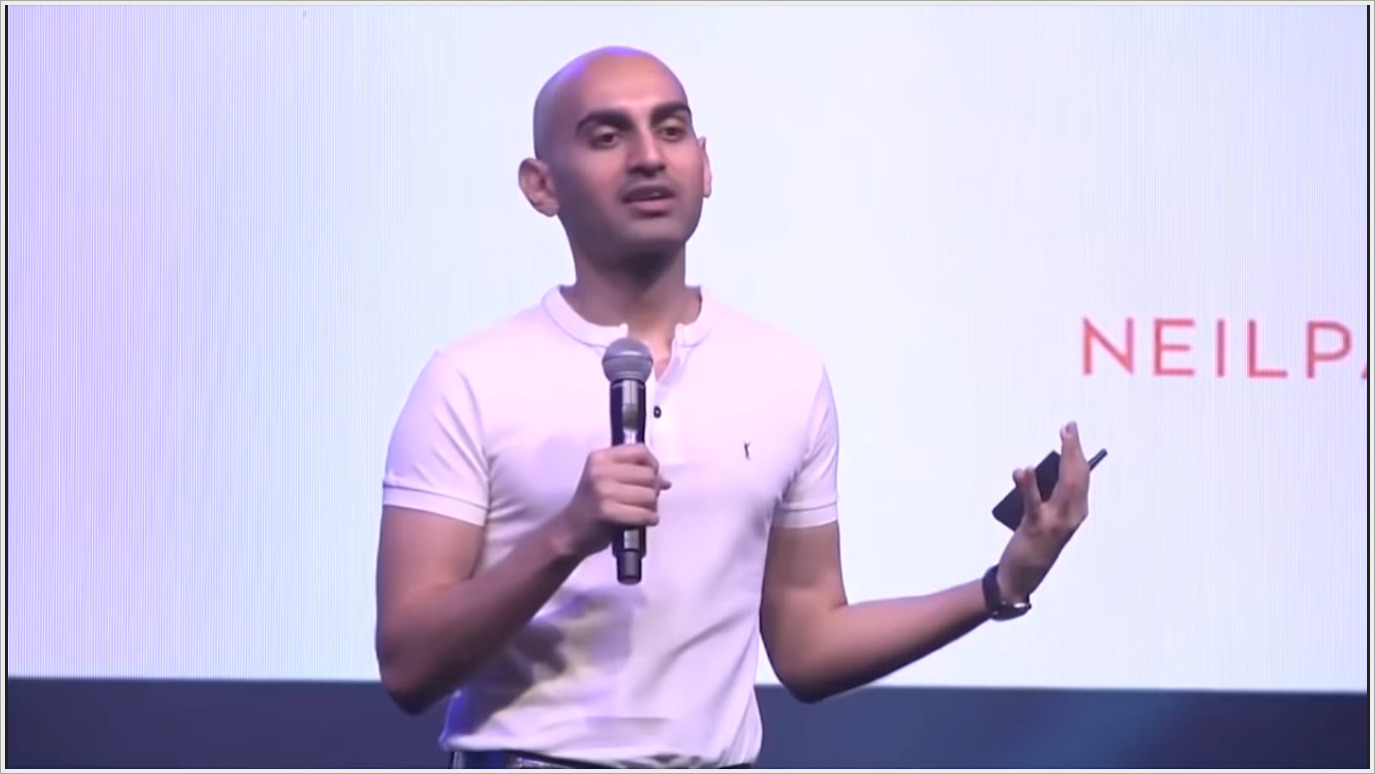hand: (992, 419, 1102, 612), (574, 441, 676, 553)
